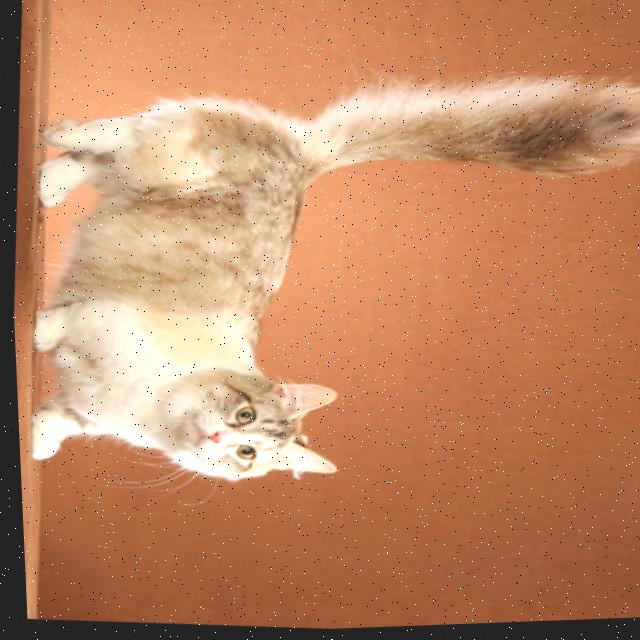Munchkin: (2, 39, 640, 521)
